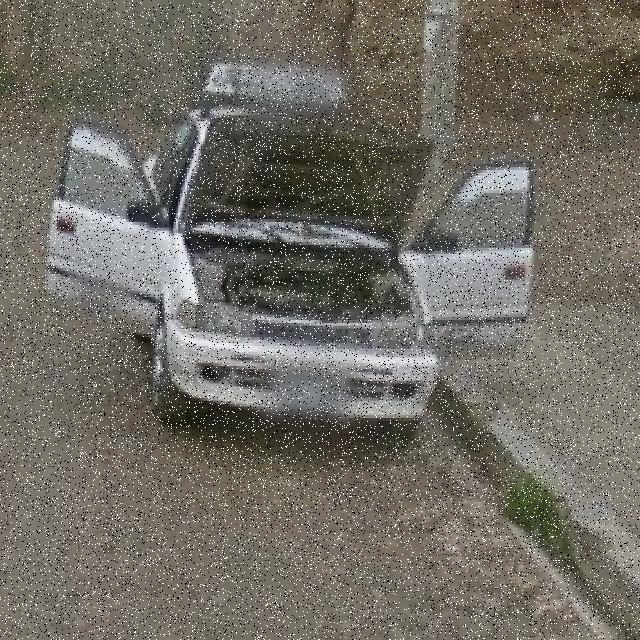cars: (58, 56, 538, 439)
